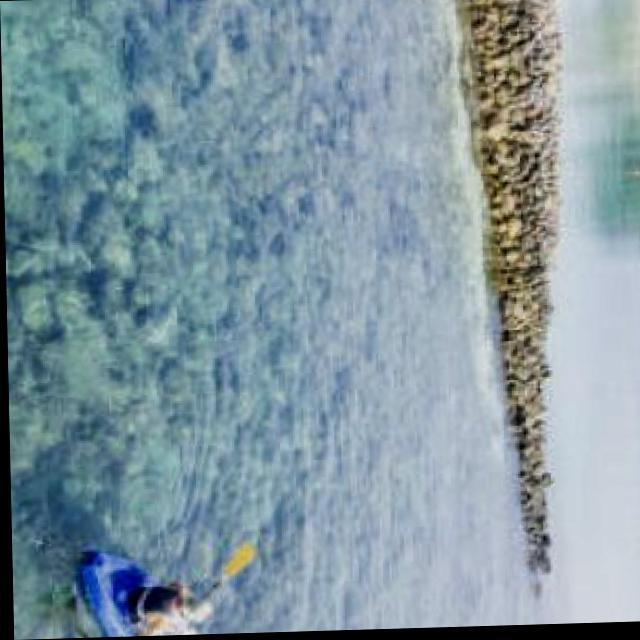kayak: (77, 549, 220, 638)
